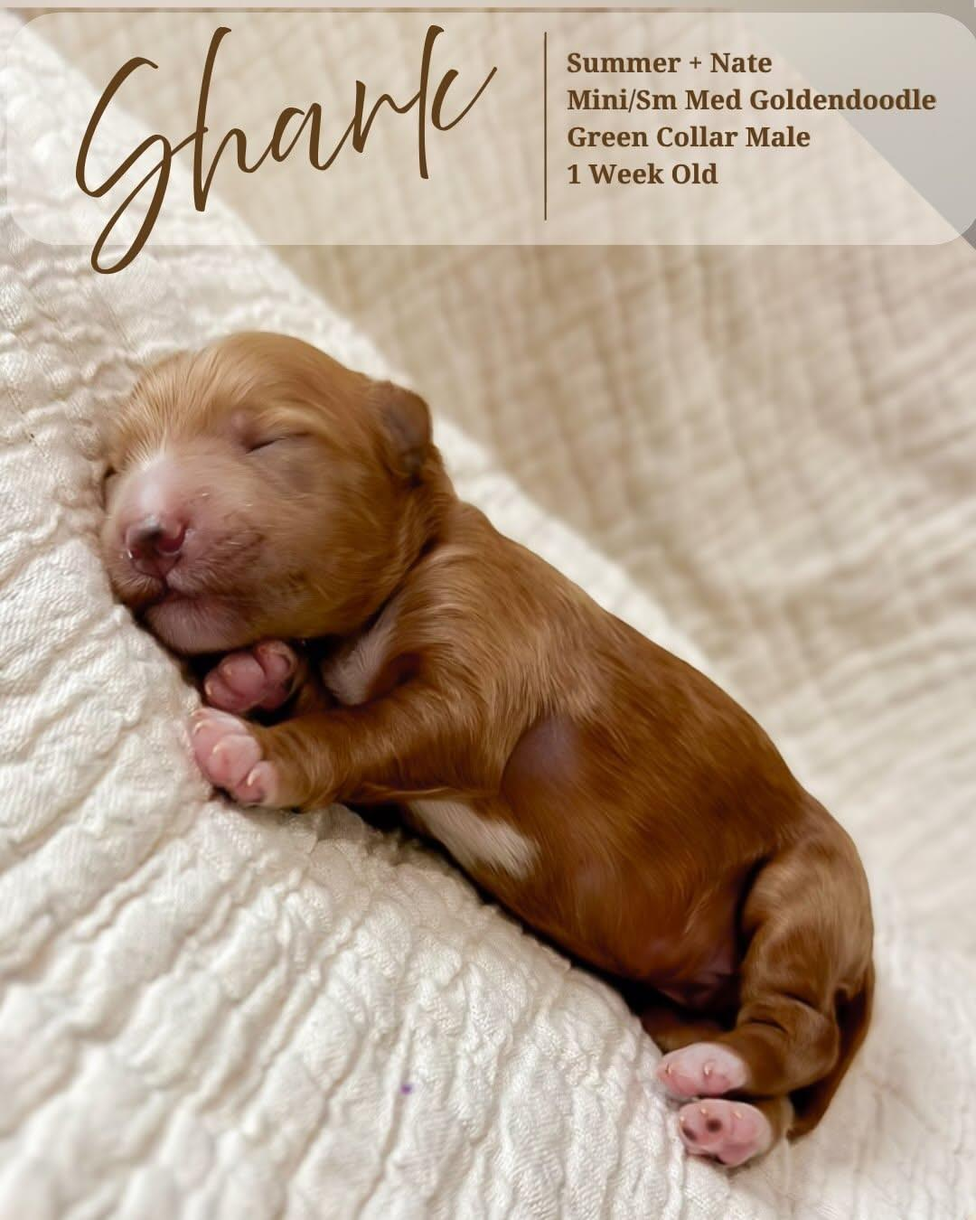puppy-dog: (78, 330, 877, 1173)
